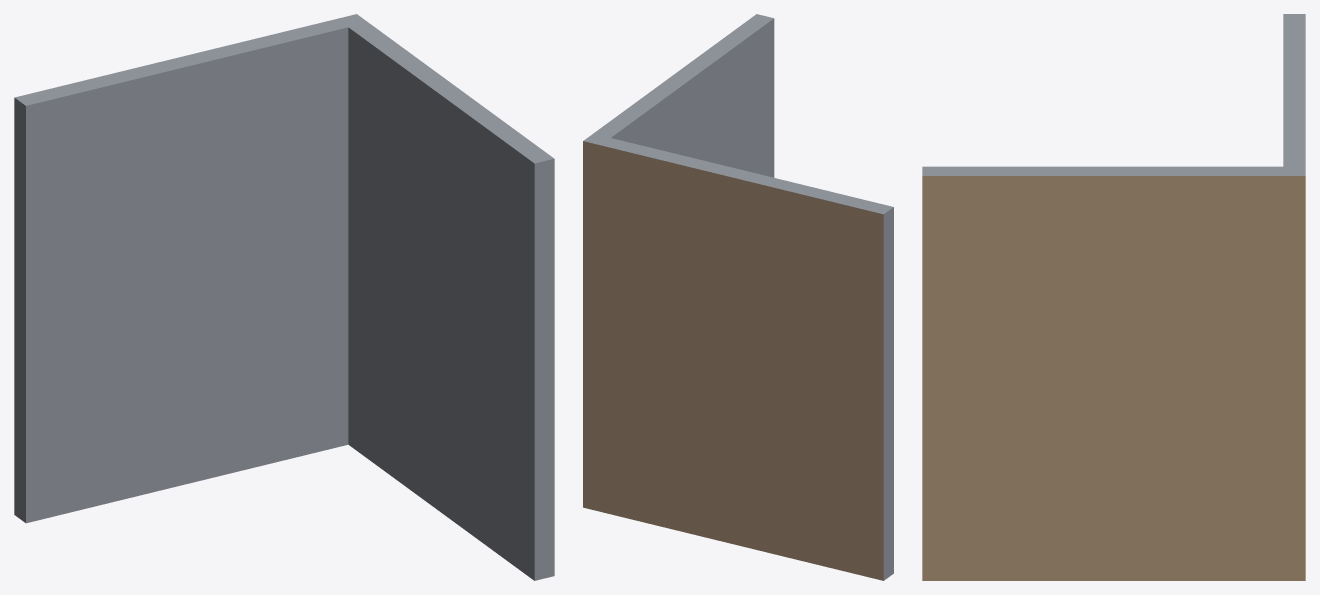
The model's file is Wall2_C6_06.fbx.
The picture shows the model from 3 angles, left to right: view 1: azimuth 30°, elevation 25°; view 2: azimuth 150°, elevation 25°; view 3: azimuth 270°, elevation 25°; orthographic projection. The views are drawn at different scales.
Visible parts, largest first — view 1: Wall2_C6_06; view 2: Wall2_C6_06; view 3: Wall2_C6_06.
Boxes of the visible parts, x1,y1,x2,y2 form: Wall2_C6_06: [14, 14, 554, 580]; Wall2_C6_06: [583, 14, 893, 580]; Wall2_C6_06: [922, 14, 1305, 580].
Size of the model in its own units: 258 by 300 by 258.
